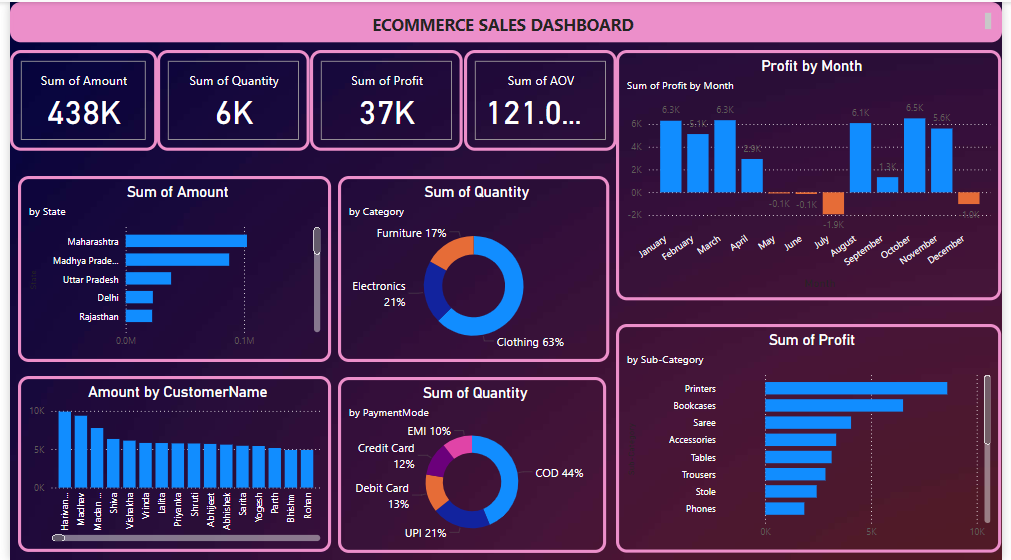

The page's visual inventory and layout, read from the dashboard file:
{"tool":"powerbi","page":{"name":"Page 1","canvas":[1280,720],"ordinal":0},"visuals":[{"type":"textbox","box":[0,0,1279.8,52.4],"z":0},{"type":"columnChart","title":"Profit by Month","fields":{"Category":["Orders.Order Date.Variation.Date Hierarchy.Month"],"Y":["Details.Profit"]},"box":[782.4,62.4,497.5,323.1],"z":1000},{"type":"barChart","fields":{"Category":["Details.Sub-Category"],"Y":["Details.Profit"]},"box":[782.4,415.3,497.5,294.8],"z":2000},{"type":"donutChart","fields":{"Category":["Details.Category"],"Y":["Details.Quantity"]},"box":[423.8,223.9,350.1,239.5],"z":3000},{"type":"donutChart","fields":{"Y":["Details.Quantity"],"Category":["Details.PaymentMode"]},"box":[423.8,483.3,345.8,226.8],"z":4000},{"type":"cardVisual","fields":{"Data":["Details.Amount"]},"box":[0,62.4,189.9,130.4],"z":5000},{"type":"cardVisual","fields":{"Data":["Details.Quantity"]},"box":[189.9,62.4,197,130.4],"z":6000},{"type":"cardVisual","fields":{"Data":["Details.Profit"]},"box":[386.9,62.4,197,130.4],"z":7000},{"type":"cardVisual","fields":{"Data":["Details.AOV"]},"box":[585.4,62.4,197,130.4],"z":8000},{"type":"barChart","fields":{"Category":["Orders.State"],"Y":["Details.Amount"]},"box":[9.9,223.9,403.9,239.5],"z":9000},{"type":"columnChart","title":"Amount by CustomerName","fields":{"Category":["Orders.CustomerName"],"Y":["Details.Amount"]},"box":[10,483,404,227],"z":10000}]}

Visuals, with their boxes in screenshot pixels (x1, y1, x2, y2), scaled from the page's 1280x720 canvas onto the 1011x560 screenshot:
textbox: <region>0, 0, 1010, 41</region>
"Profit by Month" columnChart: <region>618, 49, 1010, 300</region>
barChart - Details.Sub-Category x Details.Profit: <region>618, 323, 1010, 552</region>
donutChart - Details.Category x Details.Quantity: <region>335, 174, 611, 360</region>
donutChart - Details.Quantity x Details.PaymentMode: <region>335, 376, 608, 552</region>
cardVisual - Details.Amount: <region>0, 49, 150, 150</region>
cardVisual - Details.Quantity: <region>150, 49, 306, 150</region>
cardVisual - Details.Profit: <region>306, 49, 461, 150</region>
cardVisual - Details.AOV: <region>462, 49, 618, 150</region>
barChart - Orders.State x Details.Amount: <region>8, 174, 327, 360</region>
"Amount by CustomerName" columnChart: <region>8, 376, 327, 552</region>
